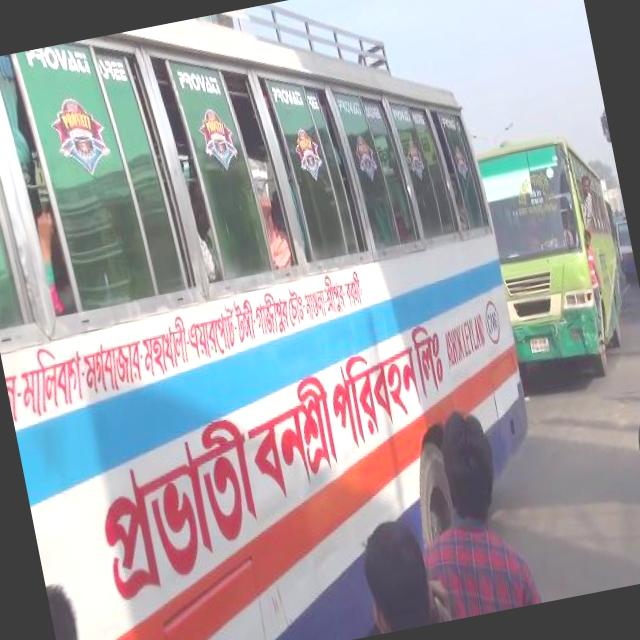bus: (0, 0, 564, 640), (472, 116, 639, 396), (610, 210, 636, 280)
